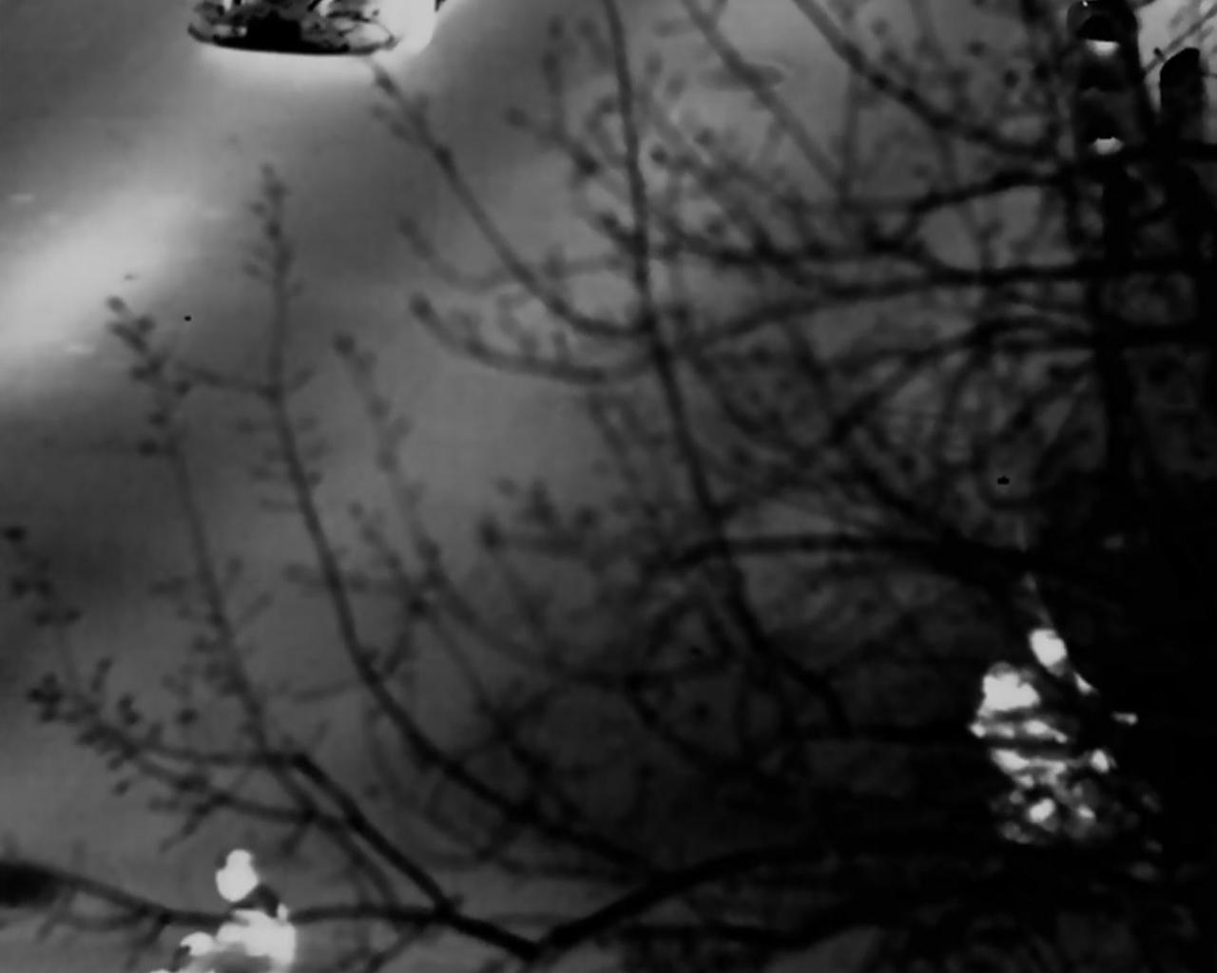person: (1030, 628, 1145, 841), (971, 660, 1068, 835), (191, 844, 311, 966)
